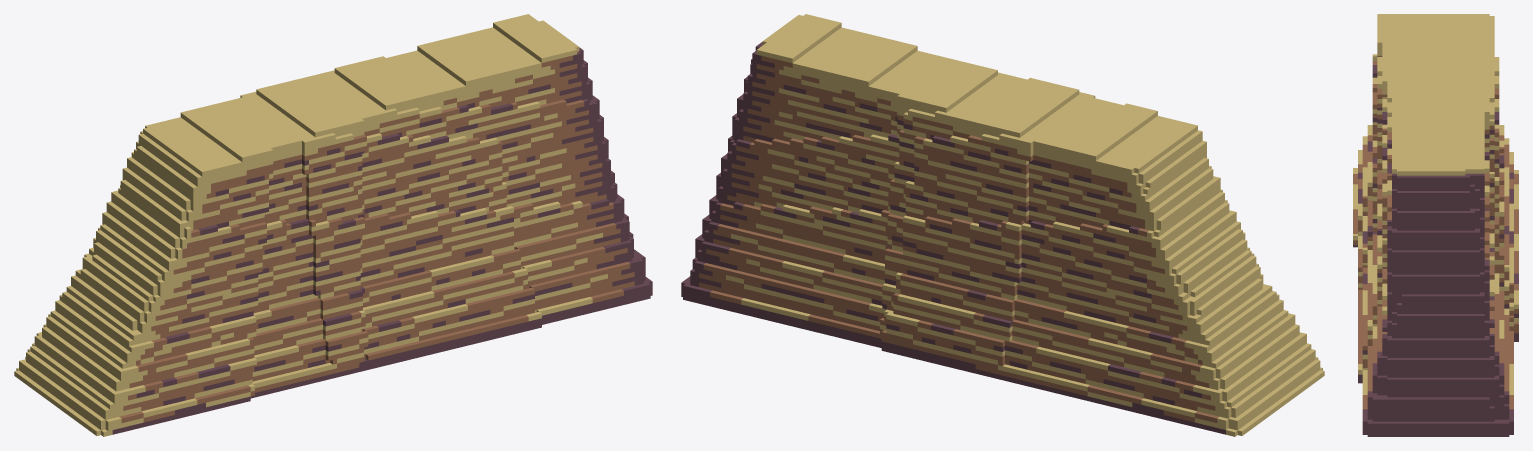
File: DryHayPile.fbx
3 renders of one model, left to right at view 1: azimuth 30°, elevation 25°; view 2: azimuth 150°, elevation 25°; view 3: azimuth 270°, elevation 25°, orthographic. The views are drawn at different scales.
Parts seen in each view (by area): view 1: haypile1; view 2: haypile1; view 3: haypile1.
Part boxes in pixels (bbox=[...]): haypile1: bbox=[14, 14, 652, 436]; haypile1: bbox=[681, 14, 1324, 436]; haypile1: bbox=[1353, 14, 1518, 436].
Bounding box in the file's own units: 1260 × 540 × 340.
